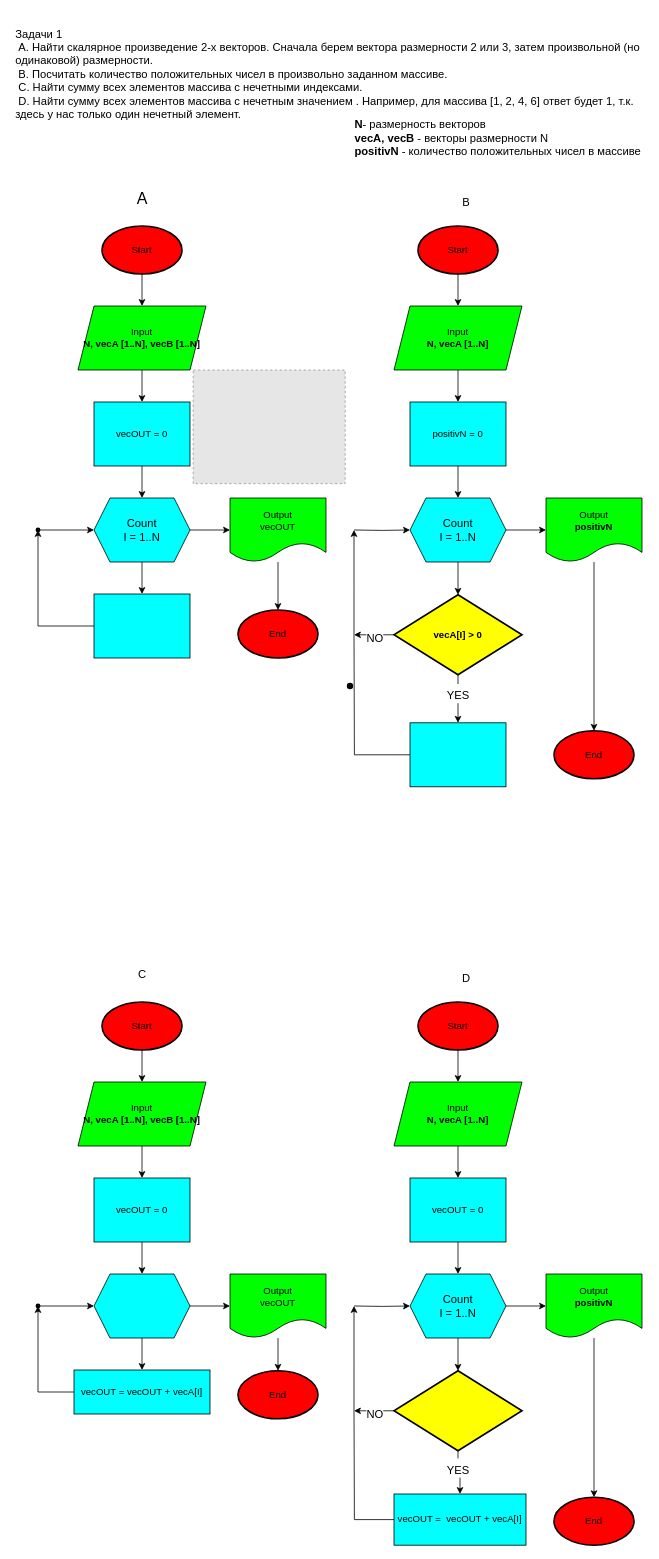
Image size: 659x1559. Some labels were removed from this diagram. Grey dashed boxes stand in for pictures. The shapes that lost their labels are listed below. From the top down, each one's centre as x and y in pixels, then its label:
At [141,625]: "vecOUT = vecOUT + vecA[I]*vecB[I]".
At [457,754]: "positivN = positivN + 1".
At [141,1305]: "Count I = 1..N, step 2".
At [457,1410]: "vecA[I] odd?".
